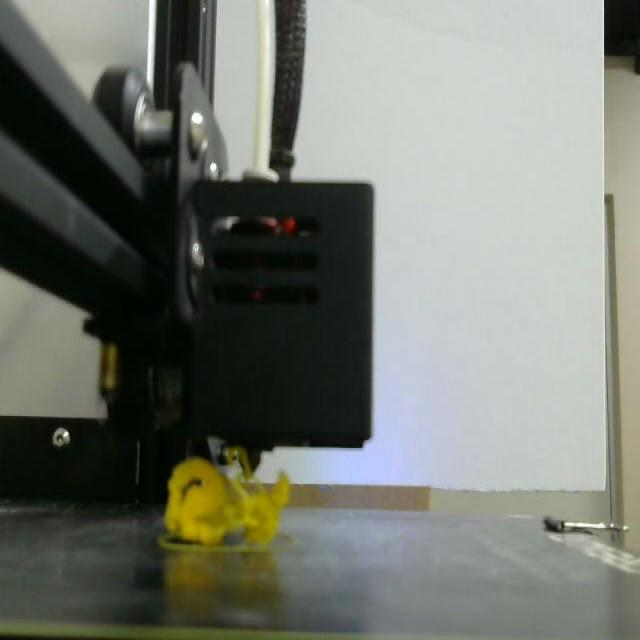spaghetti: (165, 457, 289, 544)
